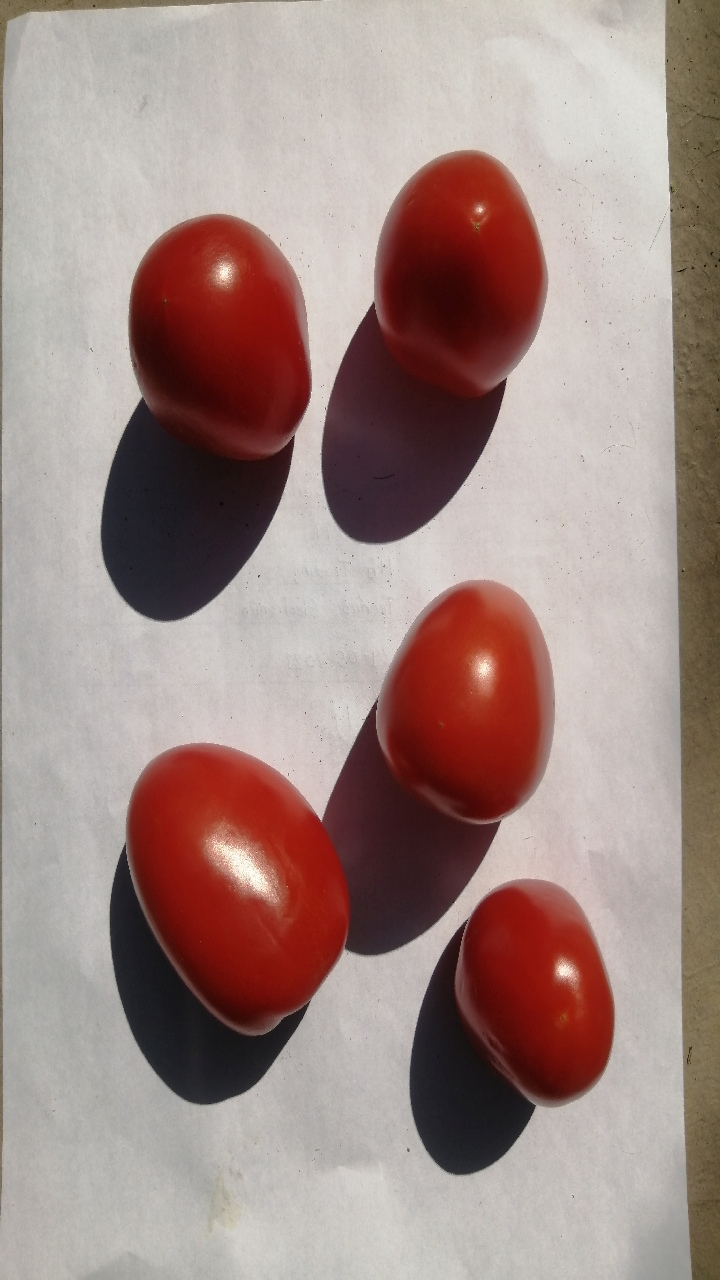tomateRojo: (98, 729, 368, 1075), (95, 194, 324, 485), (351, 562, 571, 846), (352, 142, 566, 420), (421, 860, 648, 1117)
